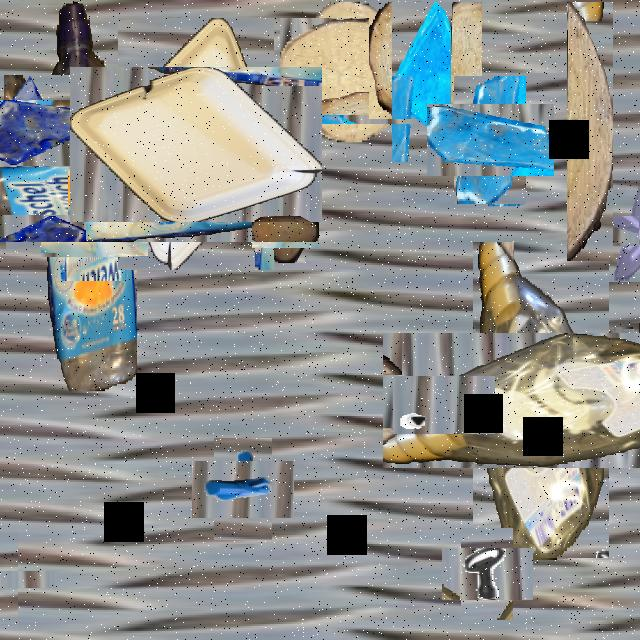glass: (392, 2, 482, 162), (440, 90, 540, 190), (0, 87, 82, 179), (573, 350, 640, 445), (591, 197, 640, 264)
metal: (53, 186, 137, 269), (404, 365, 484, 446), (203, 449, 283, 529), (451, 538, 523, 610), (0, 551, 37, 608), (0, 178, 6, 249)
plastic: (0, 75, 209, 315), (428, 286, 640, 513), (94, 42, 298, 246)
wood: (287, 10, 409, 132), (567, 2, 613, 261), (369, 2, 423, 119), (260, 203, 312, 256)
